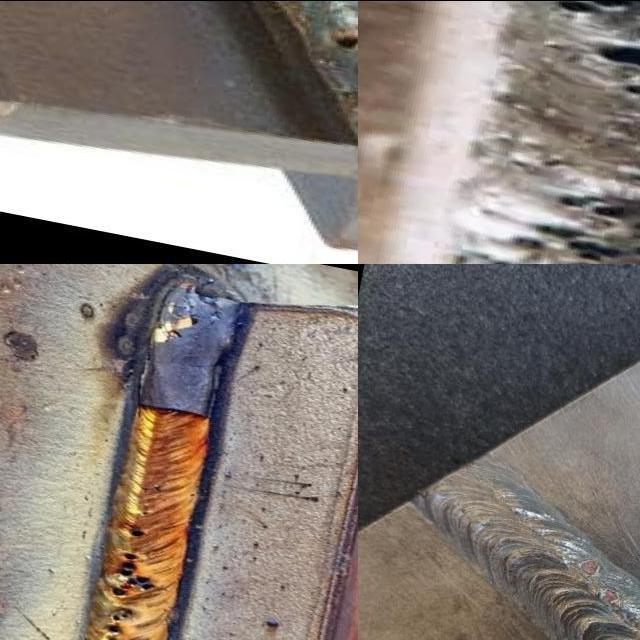defect: (452, 186, 640, 263), (107, 549, 160, 599), (545, 0, 638, 17), (507, 151, 567, 174), (104, 608, 134, 640), (330, 28, 358, 55), (591, 583, 622, 605), (575, 556, 601, 579), (509, 504, 530, 518), (127, 526, 151, 538), (138, 483, 162, 493), (136, 510, 151, 517)
